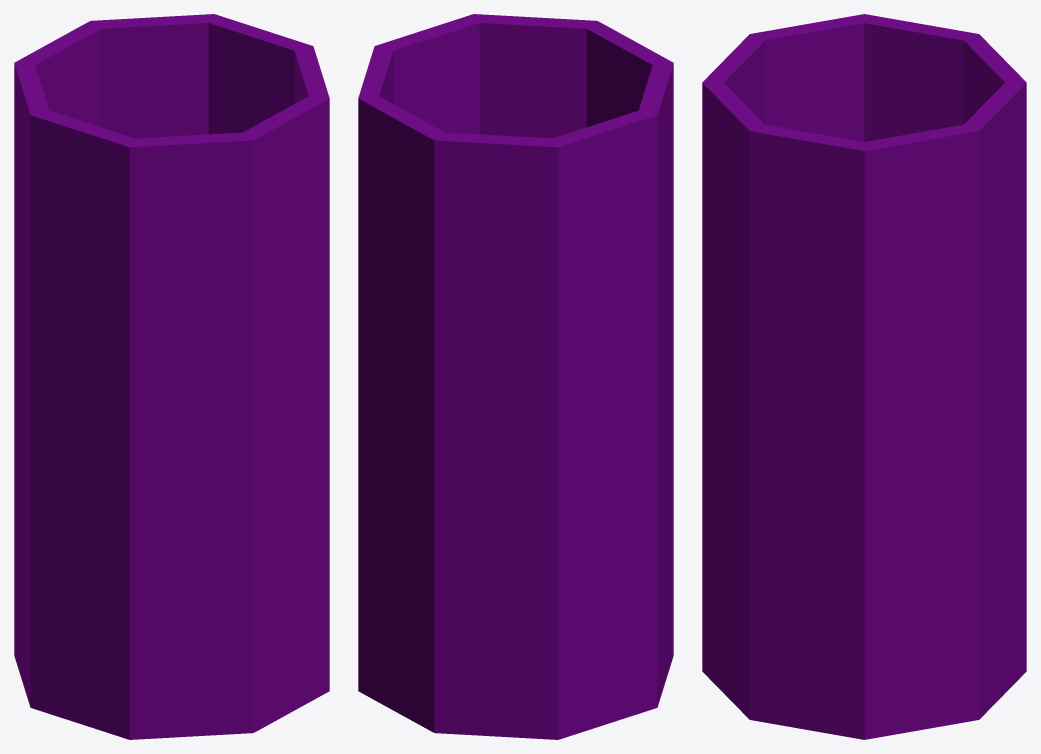
File: GlassOfMilk_01.fbx
The picture shows the model from 3 angles, left to right: view 1: azimuth 30°, elevation 25°; view 2: azimuth 150°, elevation 25°; view 3: azimuth 270°, elevation 25°; orthographic projection.
Visible parts, largest first — view 1: GlassOfMilk_01; view 2: GlassOfMilk_01; view 3: GlassOfMilk_01.
Boxes of the visible parts, <box> form: GlassOfMilk_01: <box>14,14,329,739</box>; GlassOfMilk_01: <box>358,14,673,739</box>; GlassOfMilk_01: <box>702,14,1026,739</box>.
Bounding box in the file's own units: 2.61 × 5.23 × 2.61.
